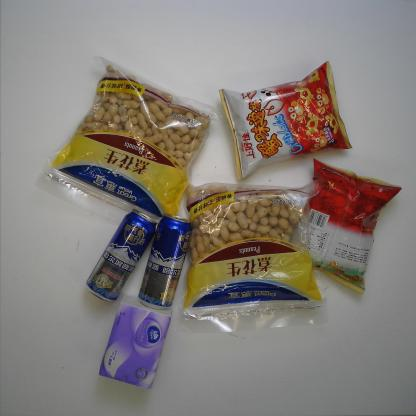Alcohol: (86, 208, 158, 303), (137, 213, 193, 311)
Dried Food: (35, 56, 224, 233), (174, 176, 330, 331)
Puffed Food: (219, 60, 353, 181), (291, 157, 402, 296)
Tissue: (98, 295, 172, 391)
